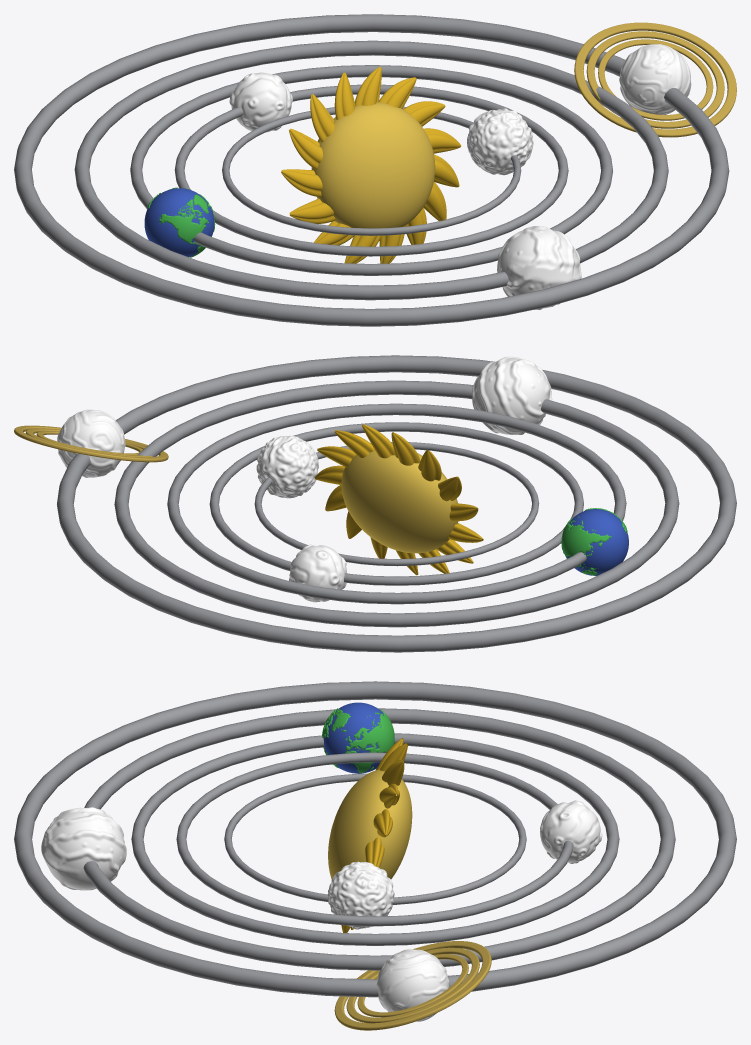
File: 15_Solar System Orbit Diagram (mini model).glb
3 renders of one model, top to bottom at view 1: azimuth 30°, elevation 25°; view 2: azimuth 150°, elevation 25°; view 3: azimuth 270°, elevation 25°, orthographic. The views are drawn at different scales.
Parts seen in each view (by area): view 1: BézierCircle.004, BézierCircle.003, Sphere.004, BézierCircle.002, BézierCircle.001, Sphere.009, BézierCircle, Sphere.010, Sphere.001, Cylinder.011, Sphere.002, Sphere (+14 smaller); view 2: BézierCircle.004, BézierCircle.003, BézierCircle.002, Sphere.004, BézierCircle.001, Sphere.009, BézierCircle, Sphere.001, Sphere.010, Sphere, Sphere.002, Sphere.003 (+6 smaller); view 3: BézierCircle.004, BézierCircle.003, BézierCircle.002, BézierCircle.001, Sphere.004, Sphere.009, BézierCircle, Sphere.010, Sphere.001, Sphere.002, Cylinder.011, Sphere (+3 smaller).
Part boxes in pixels (x1,y1,x2,y2): BézierCircle.004: [14, 14, 729, 326]; BézierCircle.003: [74, 40, 668, 300]; Sphere.004: [311, 102, 435, 228]; BézierCircle.002: [130, 65, 612, 275]; BézierCircle.001: [174, 84, 568, 256]; Sphere.009: [497, 226, 581, 309]; BézierCircle: [222, 106, 521, 235]; Sphere.010: [619, 44, 691, 114]; Sphere.001: [467, 108, 533, 175]; Cylinder.011: [574, 22, 736, 137]; Sphere.002: [229, 72, 292, 132]; Sphere: [144, 188, 214, 256]; BézierCircle.004: [57, 355, 736, 652]; BézierCircle.003: [114, 380, 679, 627]; BézierCircle.002: [167, 403, 626, 604]; Sphere.004: [341, 450, 458, 553]; BézierCircle.001: [209, 422, 583, 585]; Sphere.009: [472, 356, 552, 434]; BézierCircle: [254, 442, 539, 566]; Sphere.001: [256, 435, 318, 498]; Sphere.010: [57, 409, 125, 477]; Sphere: [564, 509, 628, 575]; Sphere.002: [289, 544, 346, 602]; Sphere.003: [561, 508, 627, 575]; BézierCircle.004: [14, 681, 736, 997]; BézierCircle.003: [83, 708, 675, 970]; BézierCircle.002: [131, 733, 619, 945]; BézierCircle.001: [176, 752, 573, 926]; Sphere.004: [328, 769, 412, 879]; Sphere.009: [41, 807, 126, 890]; BézierCircle: [224, 773, 526, 904]; Sphere.010: [376, 949, 449, 1021]; Sphere.001: [327, 861, 394, 929]; Sphere.002: [540, 800, 602, 863]; Cylinder.011: [334, 941, 491, 1030]; Sphere: [323, 702, 383, 773].
Bounding box in the file's own units: 2.3 × 0.5625 × 2.08.
